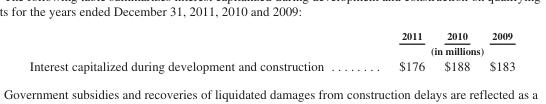table: (28, 29, 514, 72)
table column: (28, 29, 360, 72), (360, 29, 433, 72), (433, 29, 479, 72), (479, 29, 514, 72)
table column header: (28, 29, 514, 57)
table row: (28, 42, 514, 57), (28, 57, 514, 72), (28, 29, 514, 42)
table spanning cell: (360, 42, 514, 57)
